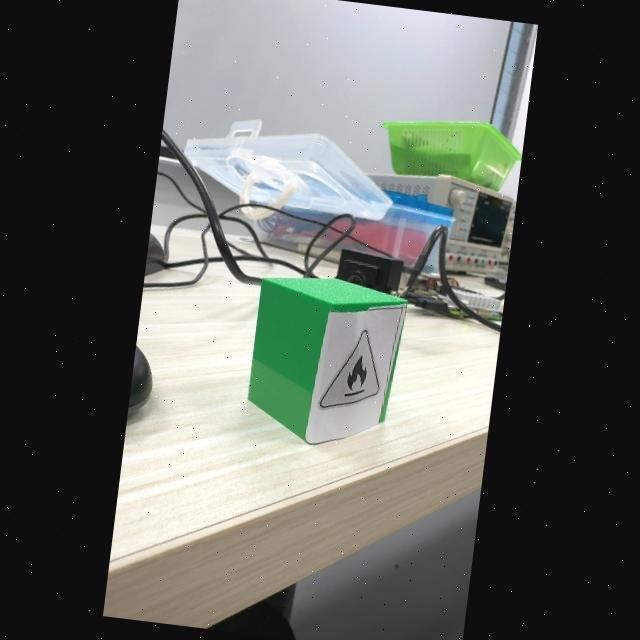Fire: (319, 330, 378, 408)
